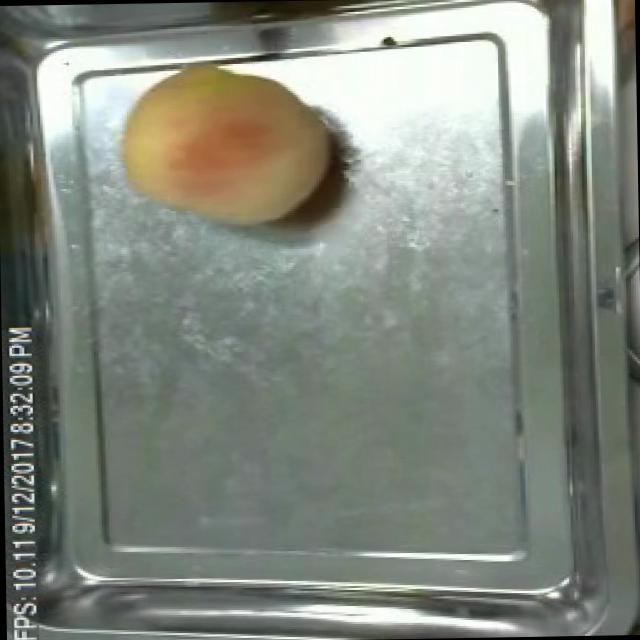Fruit: (107, 59, 346, 240)
